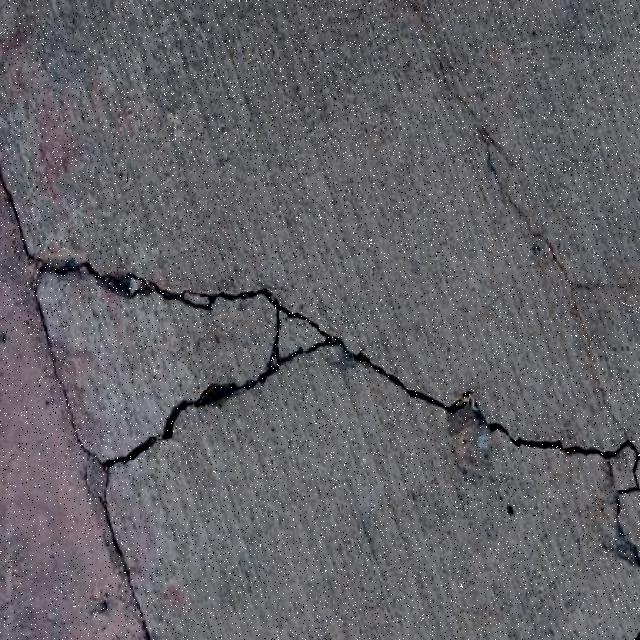Crack: (35, 264, 640, 639), (508, 196, 588, 330), (0, 170, 32, 258), (591, 366, 621, 428), (441, 66, 471, 114), (616, 499, 640, 557), (482, 138, 501, 188)
